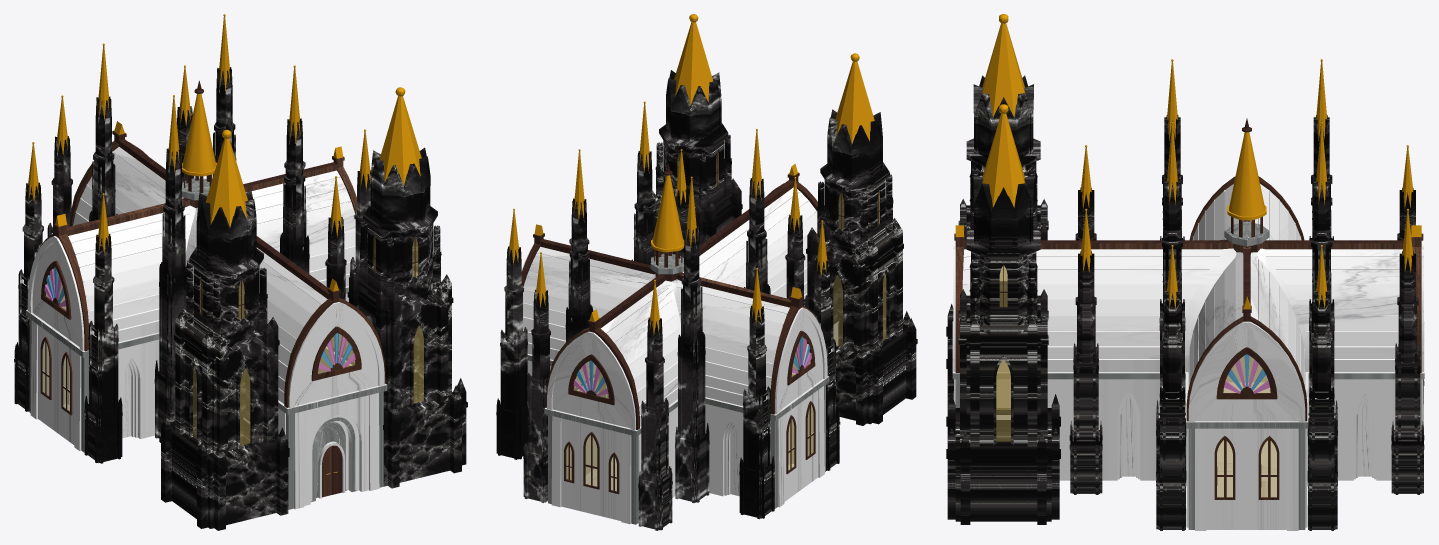
File: Templo4.Catedral_Textured.fbx
3 renders of one model, left to right at view 1: azimuth 30°, elevation 25°; view 2: azimuth 150°, elevation 25°; view 3: azimuth 270°, elevation 25°, orthographic. The views are drawn at different scales.
Visible parts, largest first — view 1: Torres.006, Estrutura; view 2: Torres.006, Estrutura; view 3: Estrutura, Torres.006.
Boxes of the visible parts, box(x1,y1,x2,y2) form: Torres.006: box(14, 14, 467, 530); Estrutura: box(26, 80, 387, 509); Torres.006: box(496, 14, 917, 530); Estrutura: box(521, 163, 839, 524); Estrutura: box(952, 118, 1424, 530); Torres.006: box(946, 14, 1424, 530).
Size of the model in its own units: 610 by 751 by 821.
8 materials, 4 textured.
